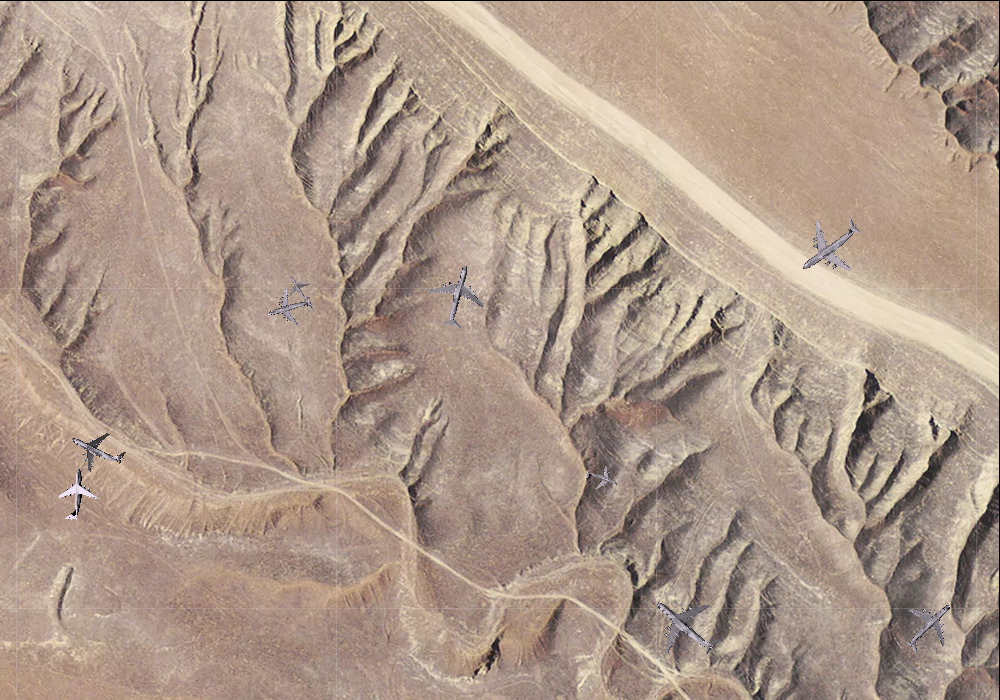plane: (635, 575, 736, 677), (783, 199, 878, 293), (889, 586, 971, 668), (420, 257, 496, 334), (61, 414, 133, 484), (261, 281, 318, 336), (51, 468, 99, 521), (580, 458, 623, 499), (280, 269, 318, 307)
